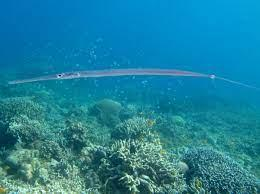Fistularia commersonii: (3, 56, 249, 103)
